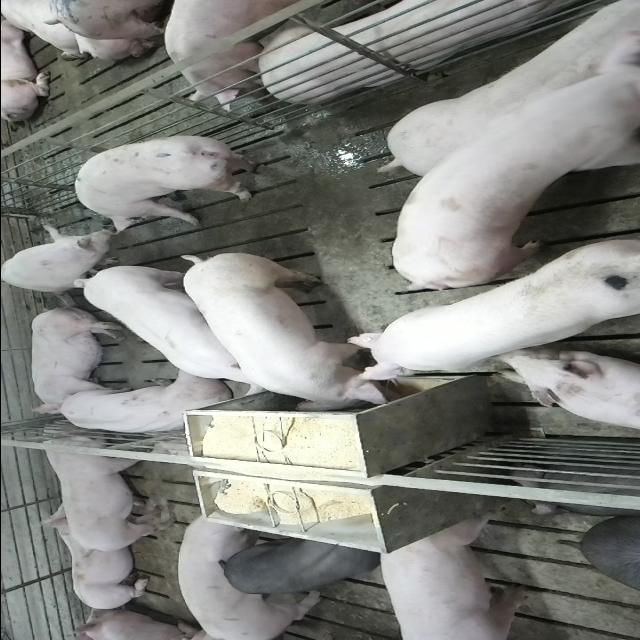Feeding: (339, 241, 635, 396), (175, 255, 402, 419)
Lateral_lying: (249, 0, 609, 101), (26, 306, 127, 416)
Sitting: (2, 226, 128, 296)
Standing: (378, 3, 640, 184), (380, 130, 634, 289), (70, 261, 284, 393), (375, 513, 541, 639), (70, 133, 274, 233), (174, 511, 320, 638), (40, 422, 180, 554), (164, 0, 306, 107)
Sternal_lying: (32, 510, 154, 610), (44, 374, 230, 438), (496, 352, 640, 433)
